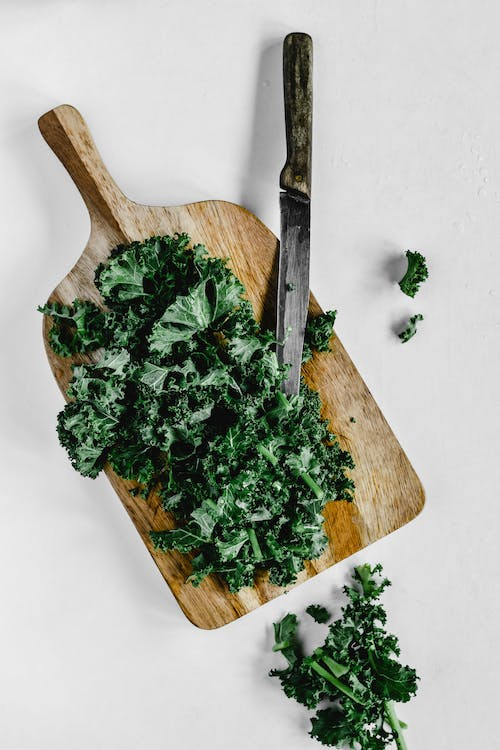knife: (275, 29, 315, 400)
